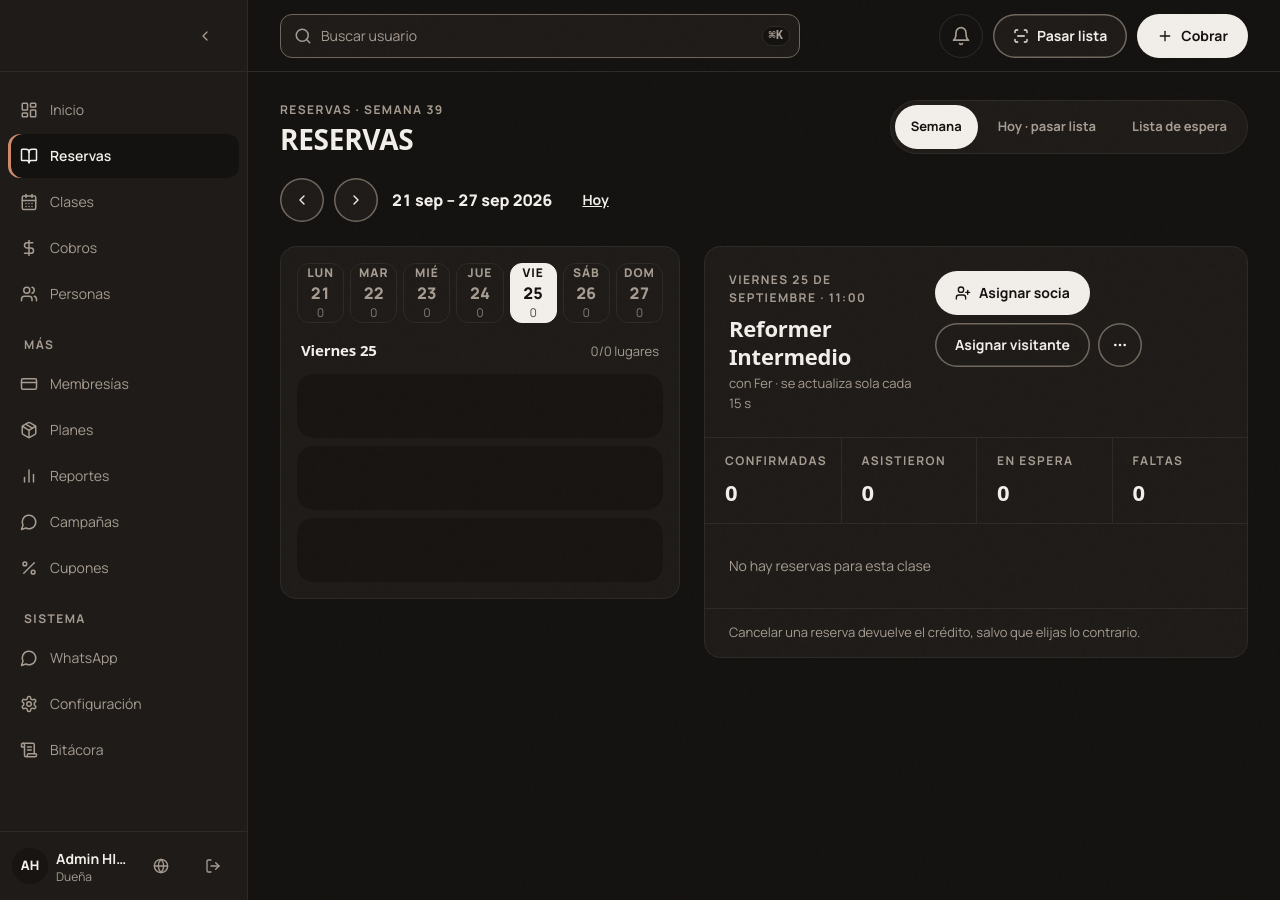
Scenario: BookingsList · responsiva al asignar › 403 WAIVER_REQUIRED muestra el aviso y la casilla, sin toast de error genérico
The image size is (1280, 900).
expect the heading "Reformer Intermedio" is shown: met, box [729,313,851,370]
Click the button "Asignar socia" at (1012, 293), box [935,271,1090,315]
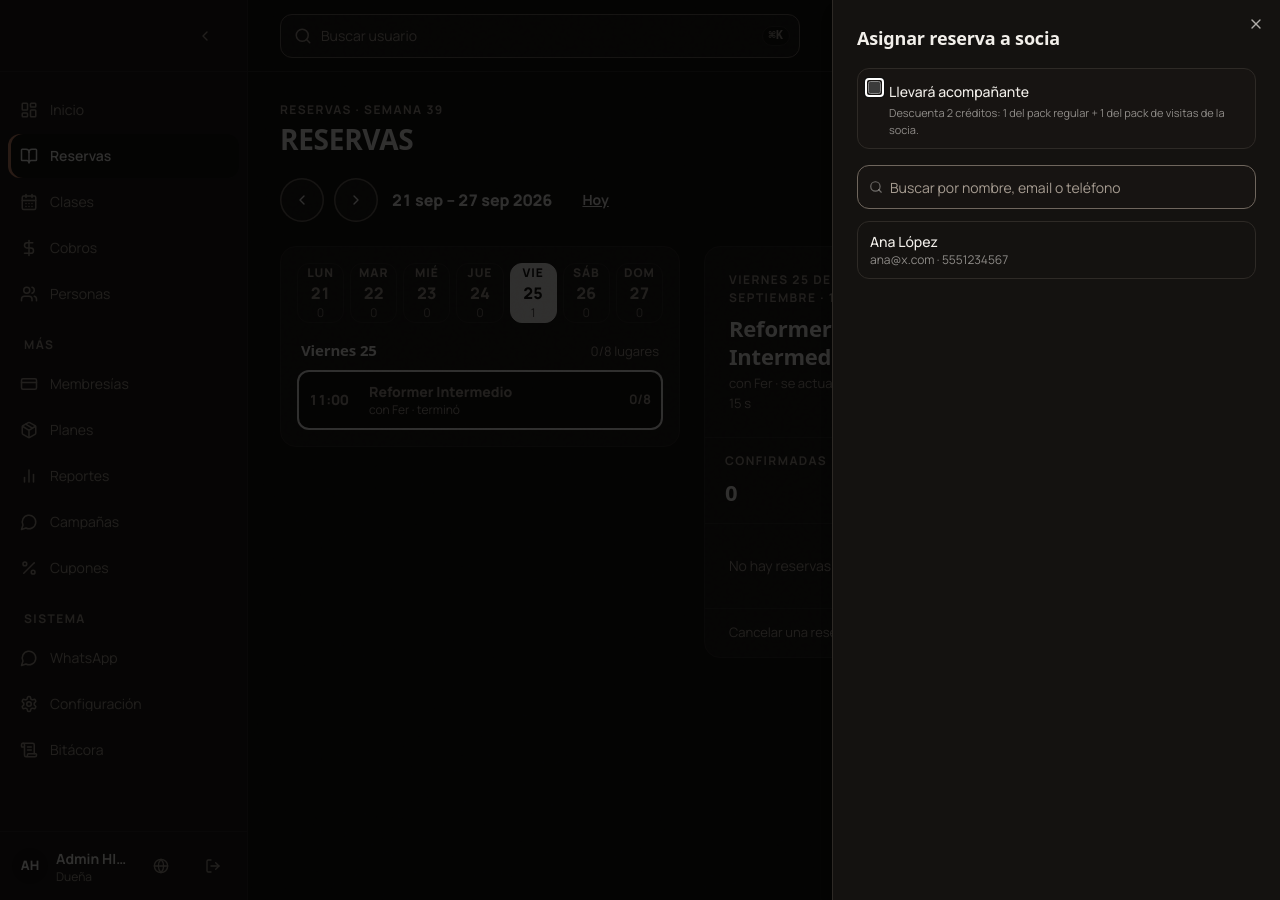
expect the heading "Asignar reserva a socia" is shown: met, box [857,26,1060,50]
Click the button "Ana López ana@x.com · 5551234567" at (904, 242), box [858,222,1255,278]
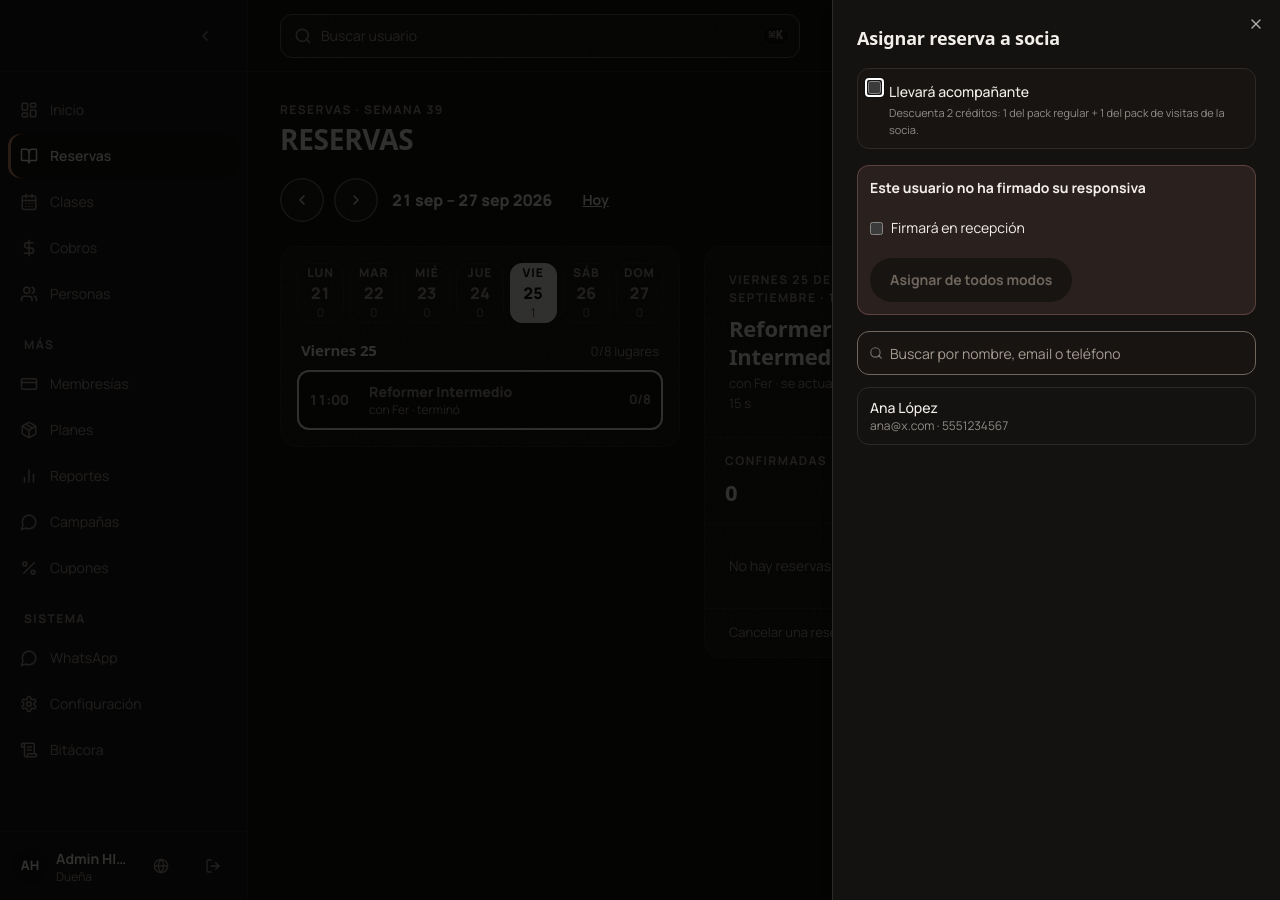
expect the text "Este usuario no ha firmado su responsiva" is shown: met, box [870,178,1146,197]
expect the checkbox labelled "Firmará en recepción" is shown: met, box [870,222,883,234]
